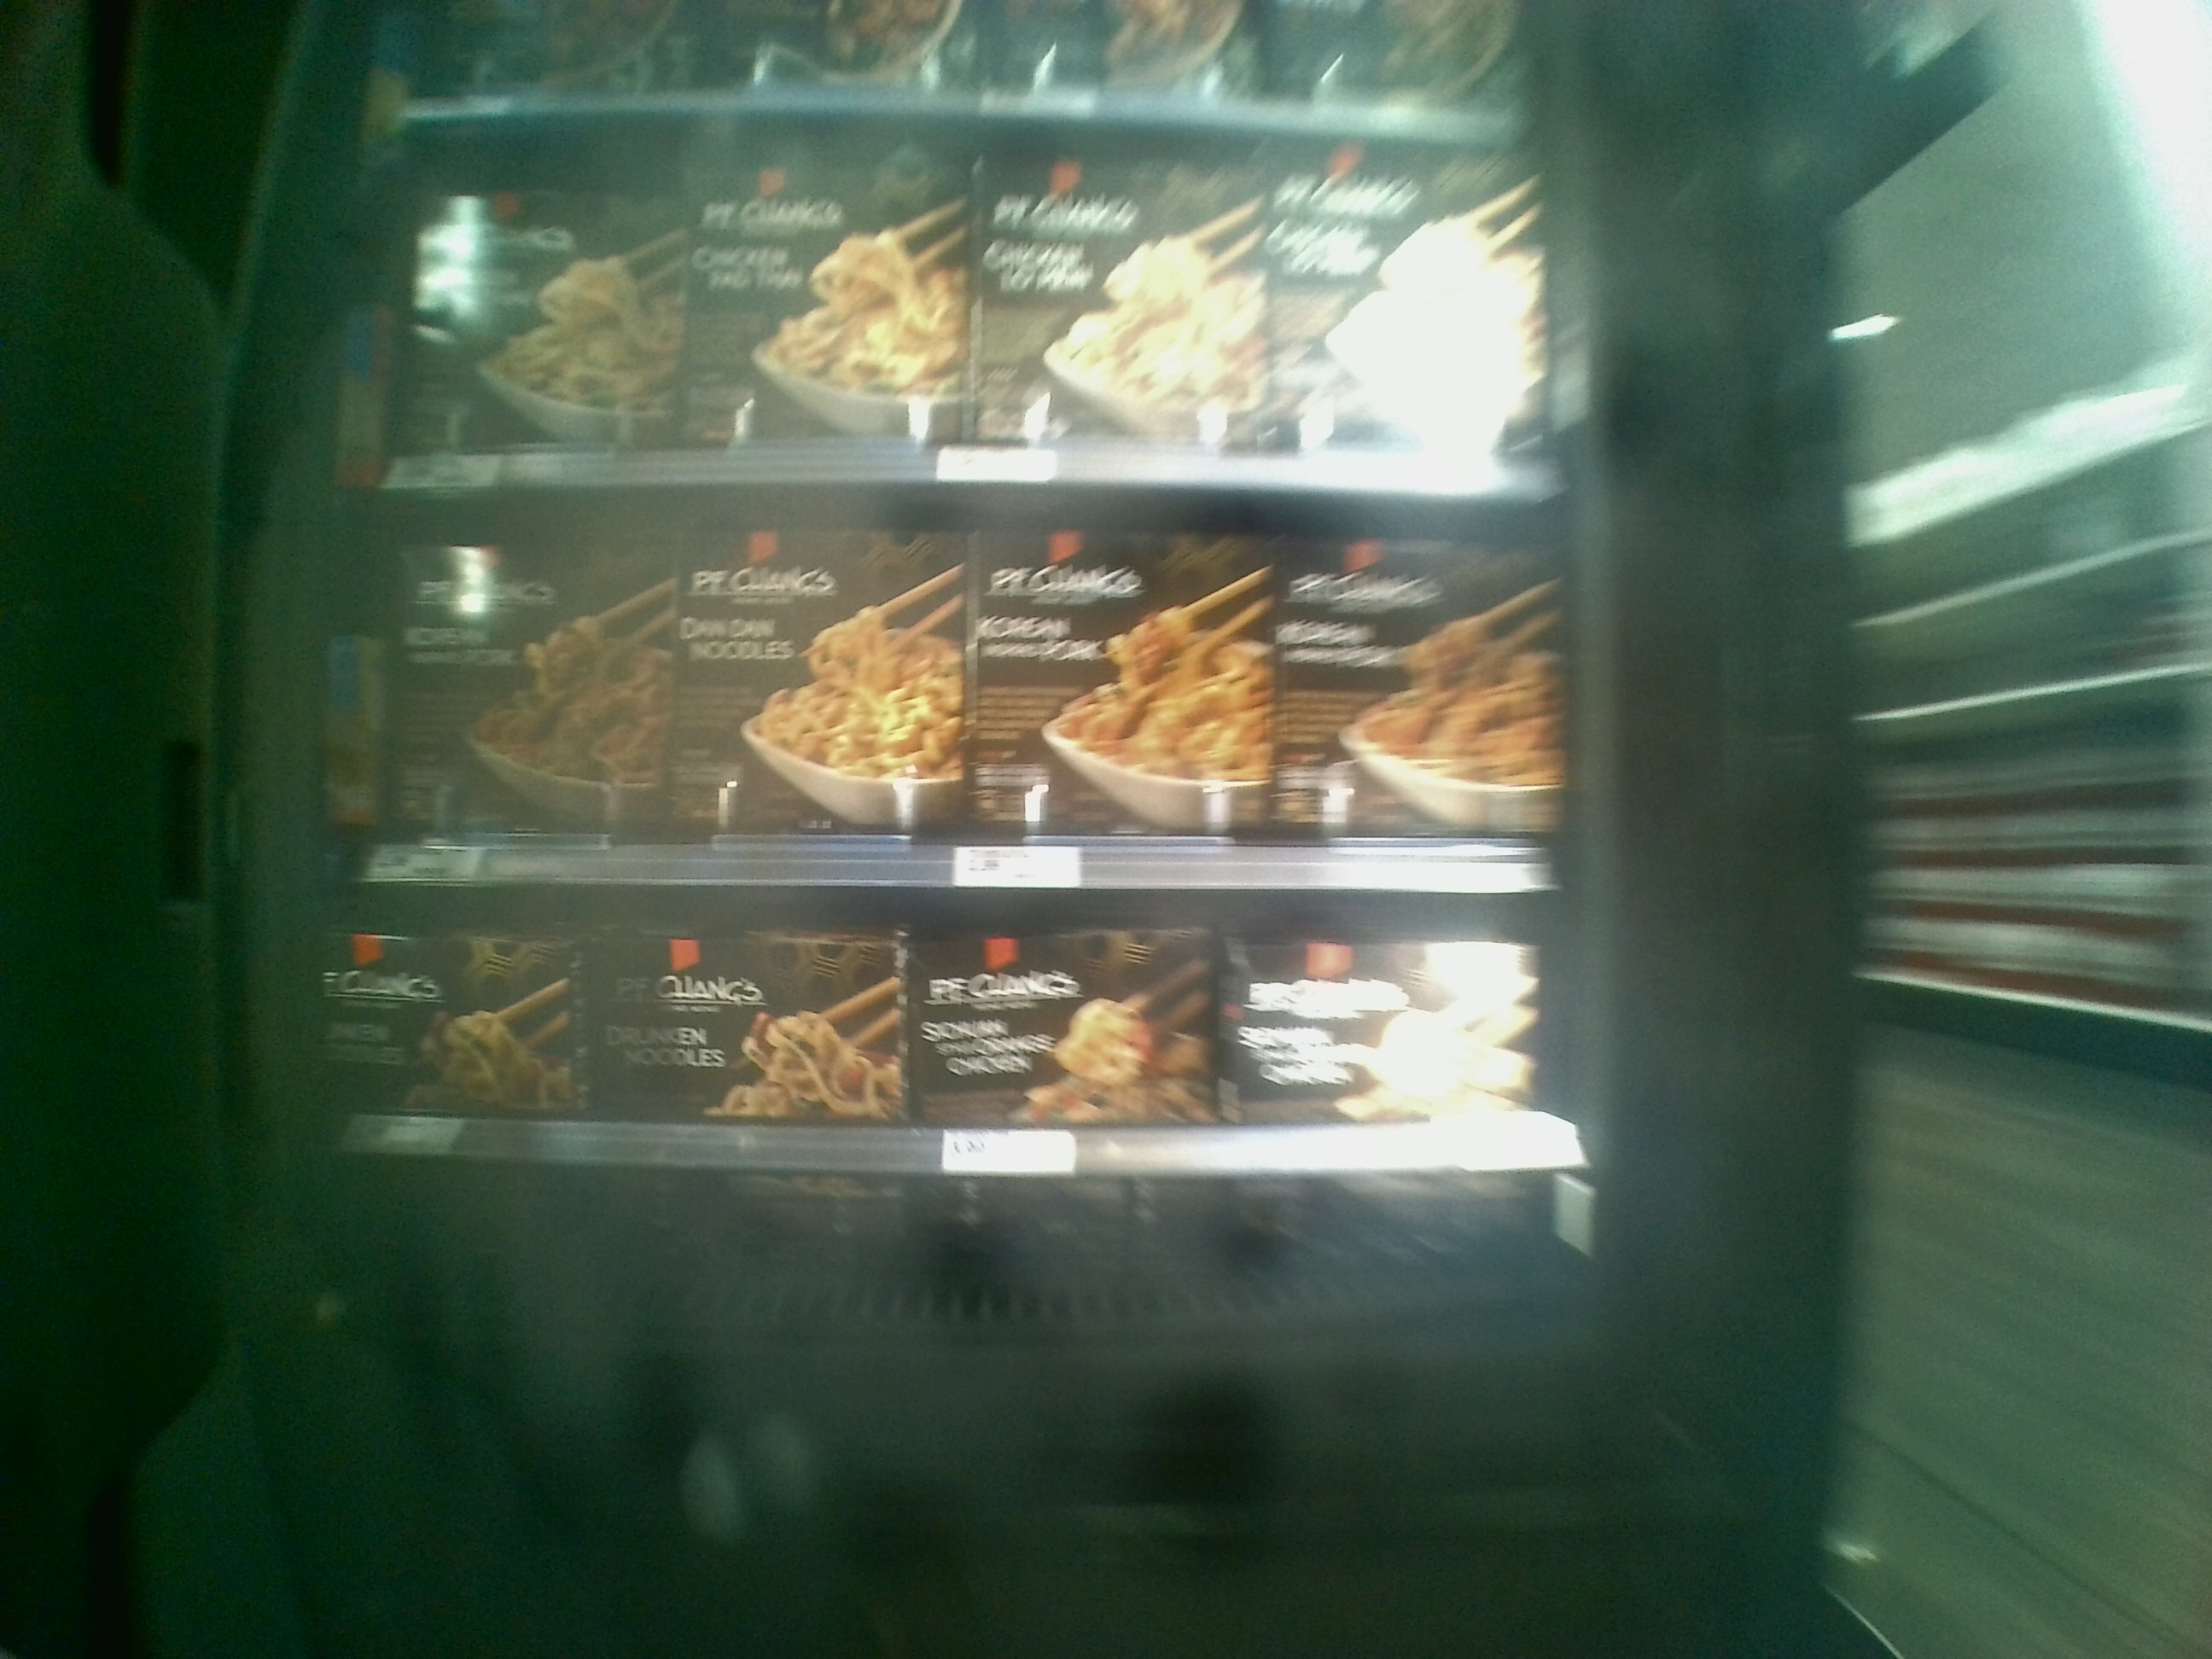shelf: (317, 843, 1601, 1309), (326, 465, 1573, 894), (326, 112, 1561, 495)
